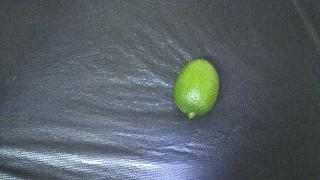LOCAL: (173, 59, 219, 118)
